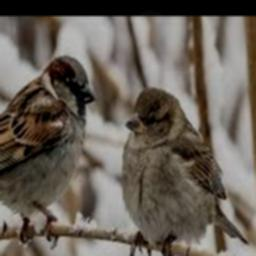Sparrow: (121, 86, 250, 256), (0, 55, 95, 249)
